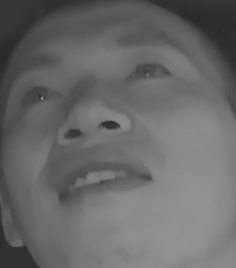eye: (121, 54, 171, 90), (13, 78, 62, 111)
mouth: (42, 152, 163, 206)
